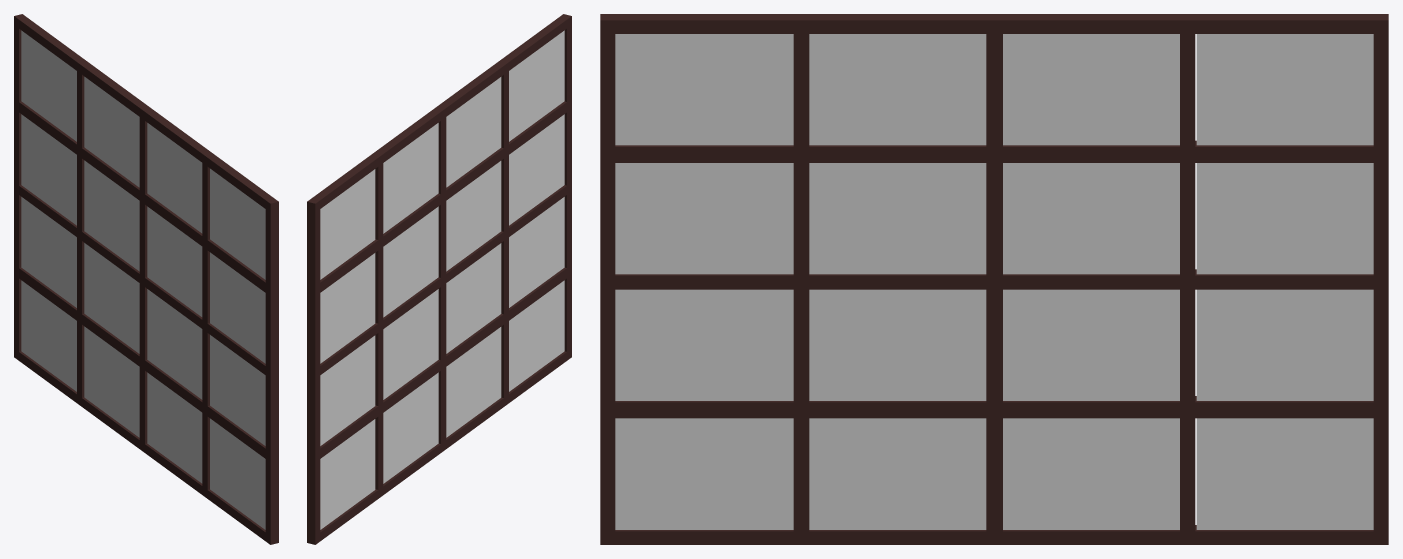
Rendered from Ventana_Espera.fbx.
3 views of the same model, side by side, from view 1: azimuth 30°, elevation 25°; view 2: azimuth 150°, elevation 25°; view 3: azimuth 270°, elevation 25° (orthographic). The views are drawn at different scales.
Visible parts, largest first — view 1: Cube.035, Plane.011; view 2: Cube.035, Plane.011; view 3: Cube.035, Plane.011.
Part boxes in pixels (x1=…): Cube.035: x1=21, y1=30, x2=265, y2=529; Plane.011: x1=14, y1=14, x2=278, y2=544; Cube.035: x1=320, y1=30, x2=564, y2=529; Plane.011: x1=307, y1=14, x2=571, y2=544; Cube.035: x1=615, y1=34, x2=1373, y2=529; Plane.011: x1=600, y1=14, x2=1388, y2=544.
Bounding box in the file's own units: 5.84 × 227 × 310.
